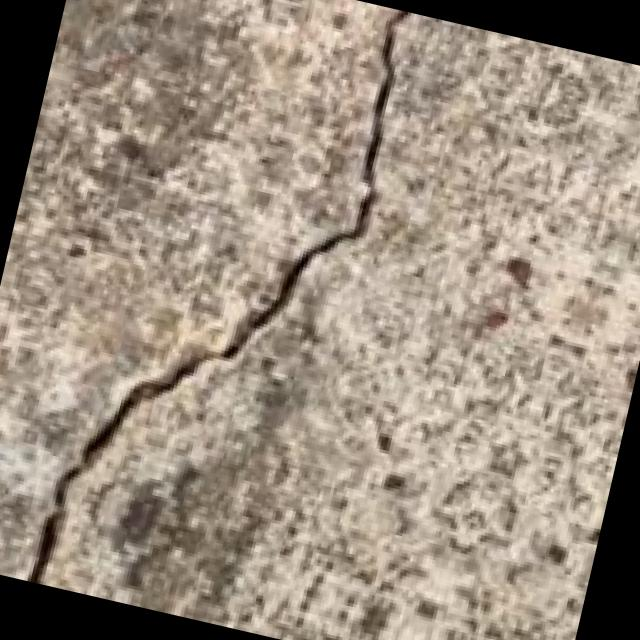crack: (24, 0, 476, 640)
